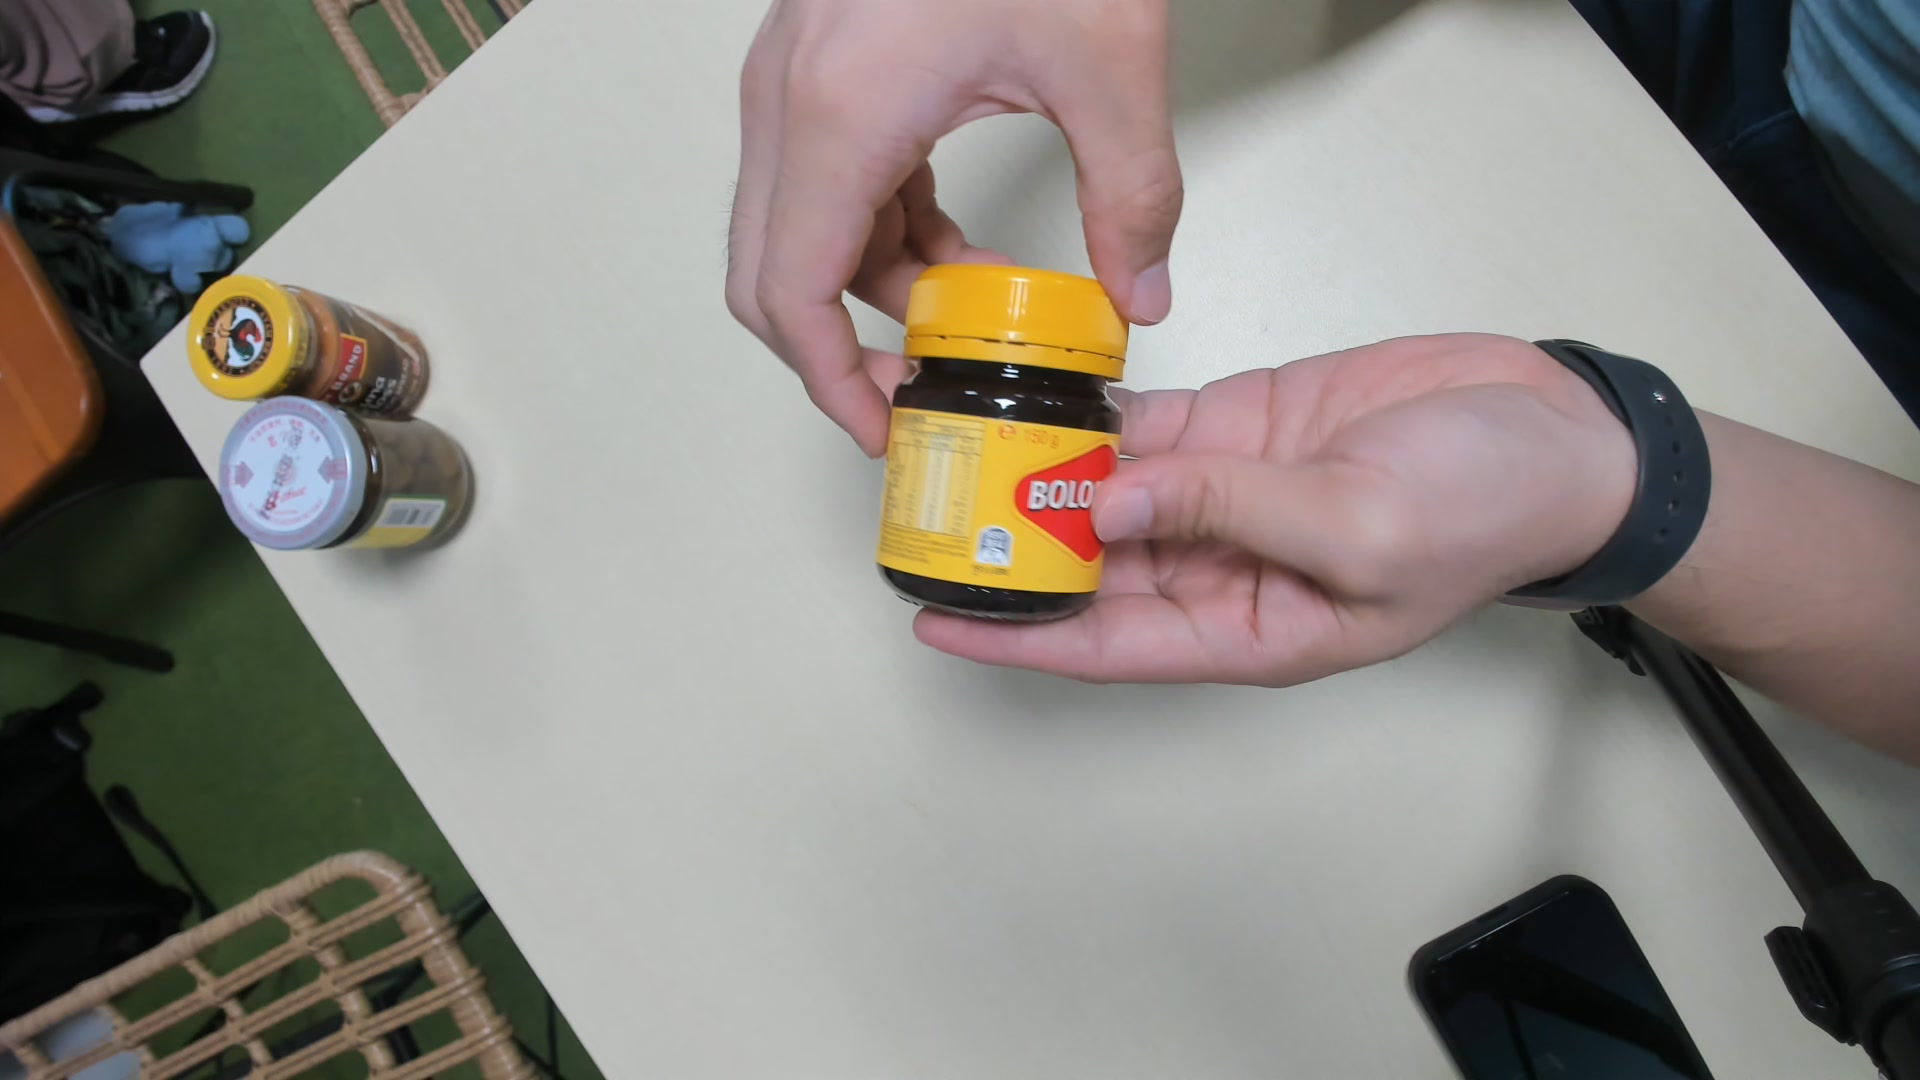OtherSauceDressing_200-299g_Halal_NonHealthy: (877, 262, 1118, 626)
